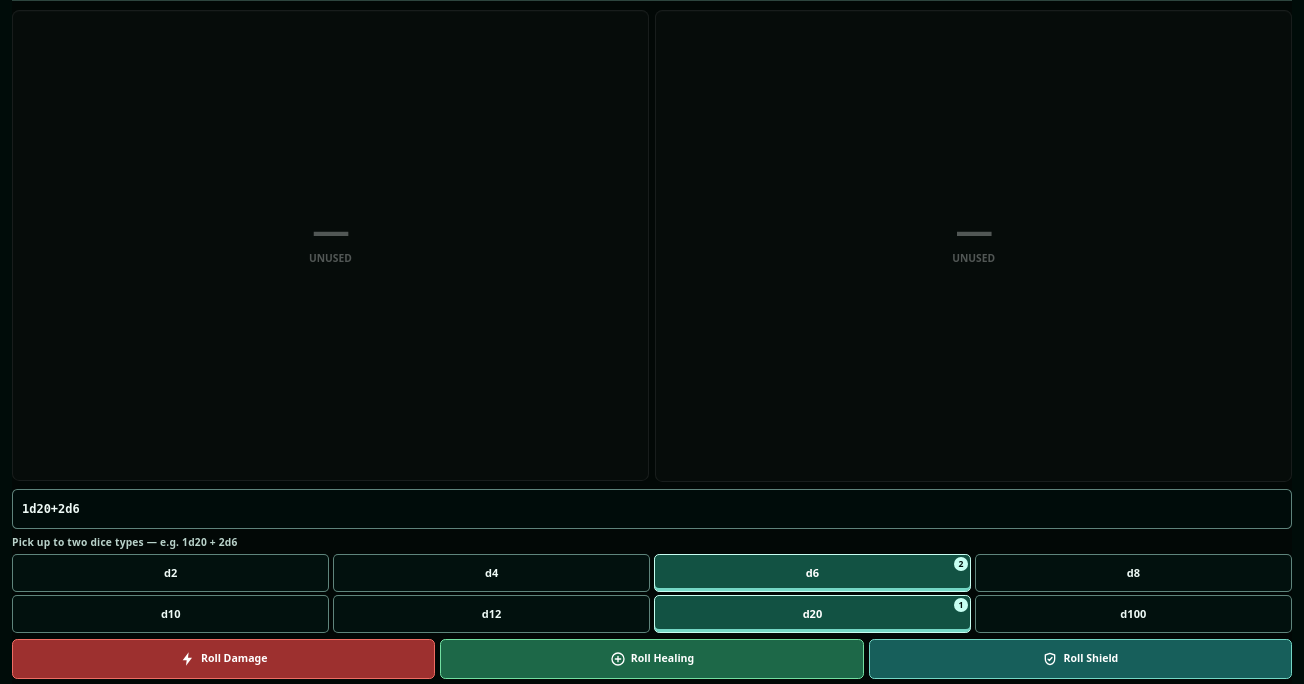
die button clicks preserve a positive or negative modifier already typed
Replace the text in the field named "Dice expression" with "1d8+2". click: [652, 509]
box: x1=12 y1=489 x2=1292 y2=529
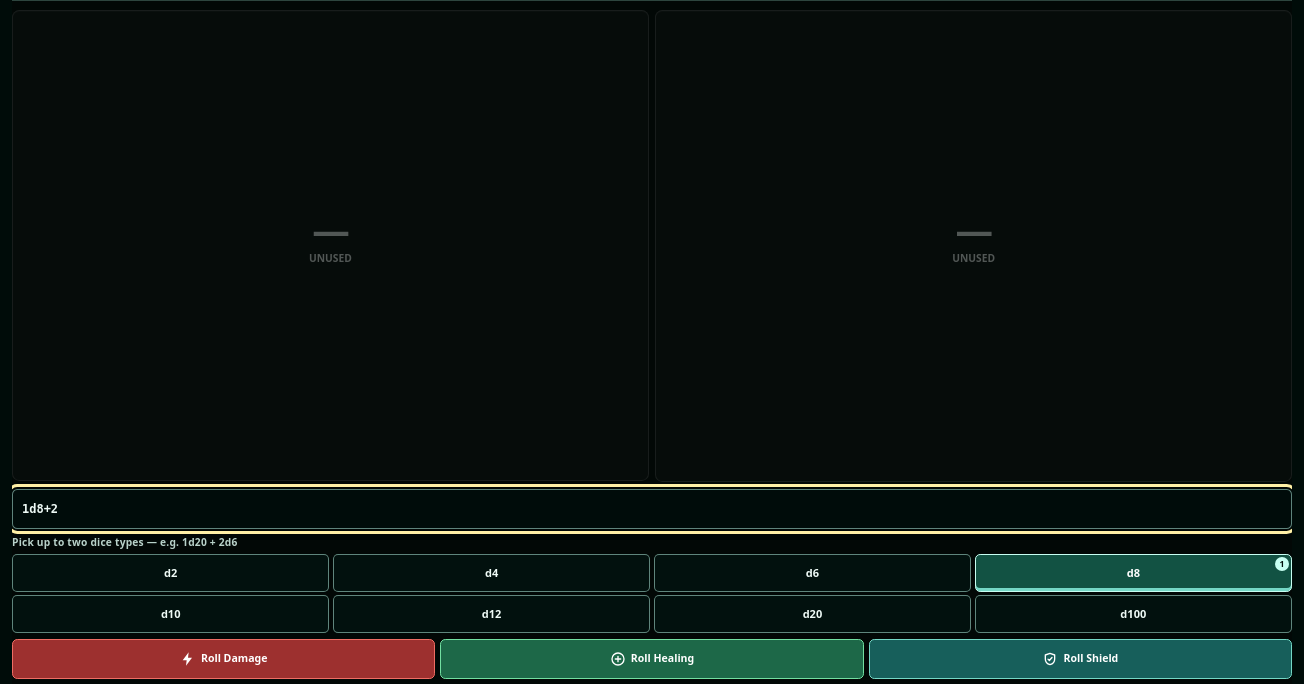
Click the button "d6". click: [812, 573]
box: x1=654 y1=554 x2=971 y2=592
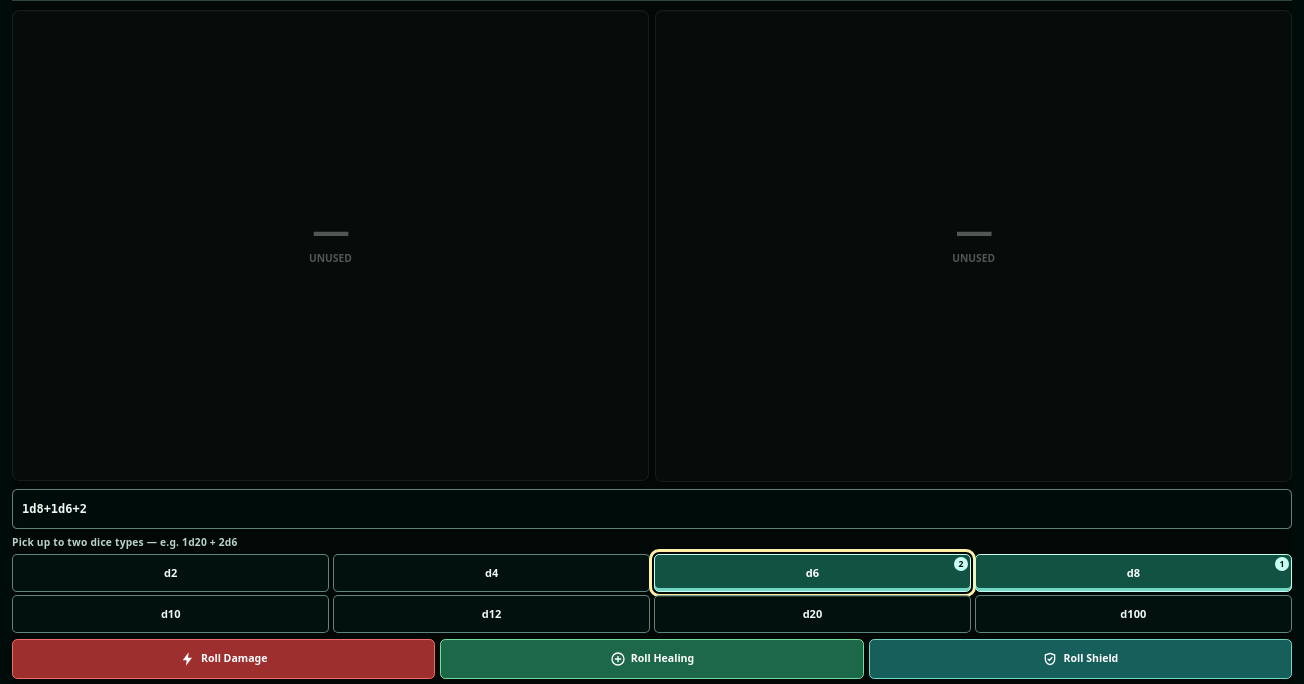
Check: the field named "Dice expression" holds "1d8+1d6+2"
Replace the text in the field named "Dice expression" with "1d8-2". click: [652, 509]
box: x1=12 y1=489 x2=1292 y2=529
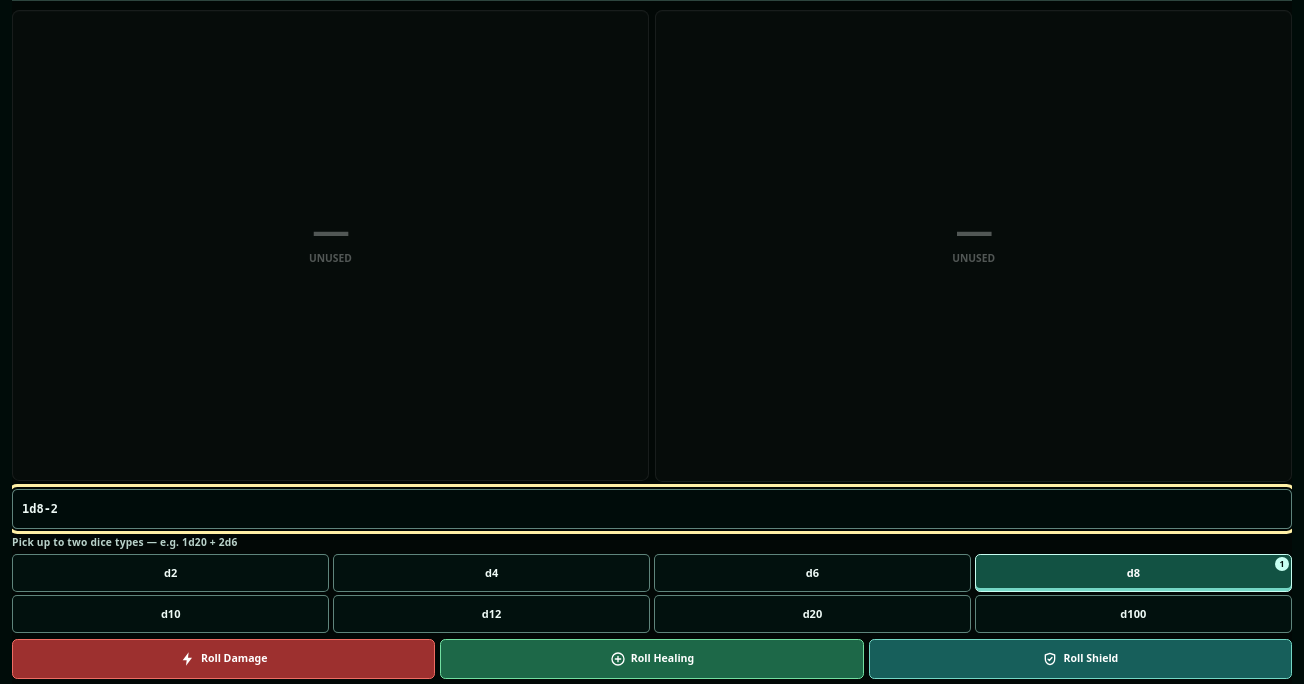
Click the button "d6". click: [812, 573]
box: x1=654 y1=554 x2=971 y2=592
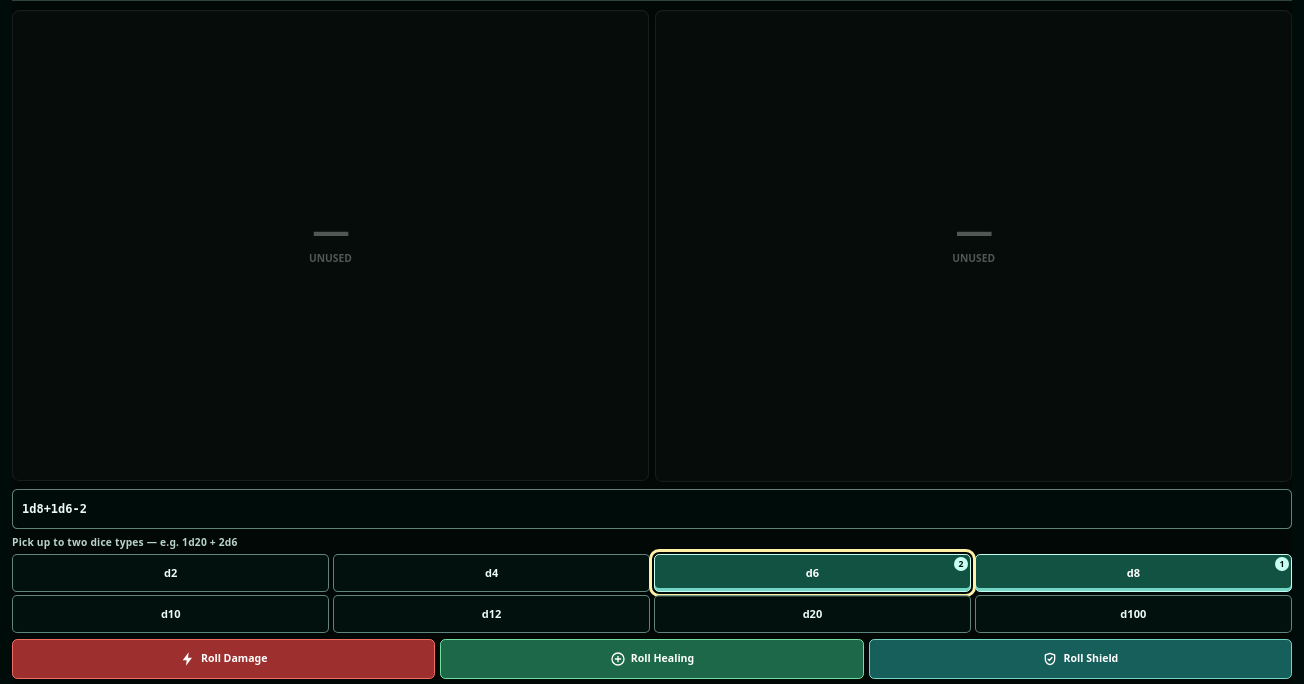
Check: the field named "Dice expression" holds "1d8+1d6-2", box x1=12 y1=489 x2=1292 y2=529
